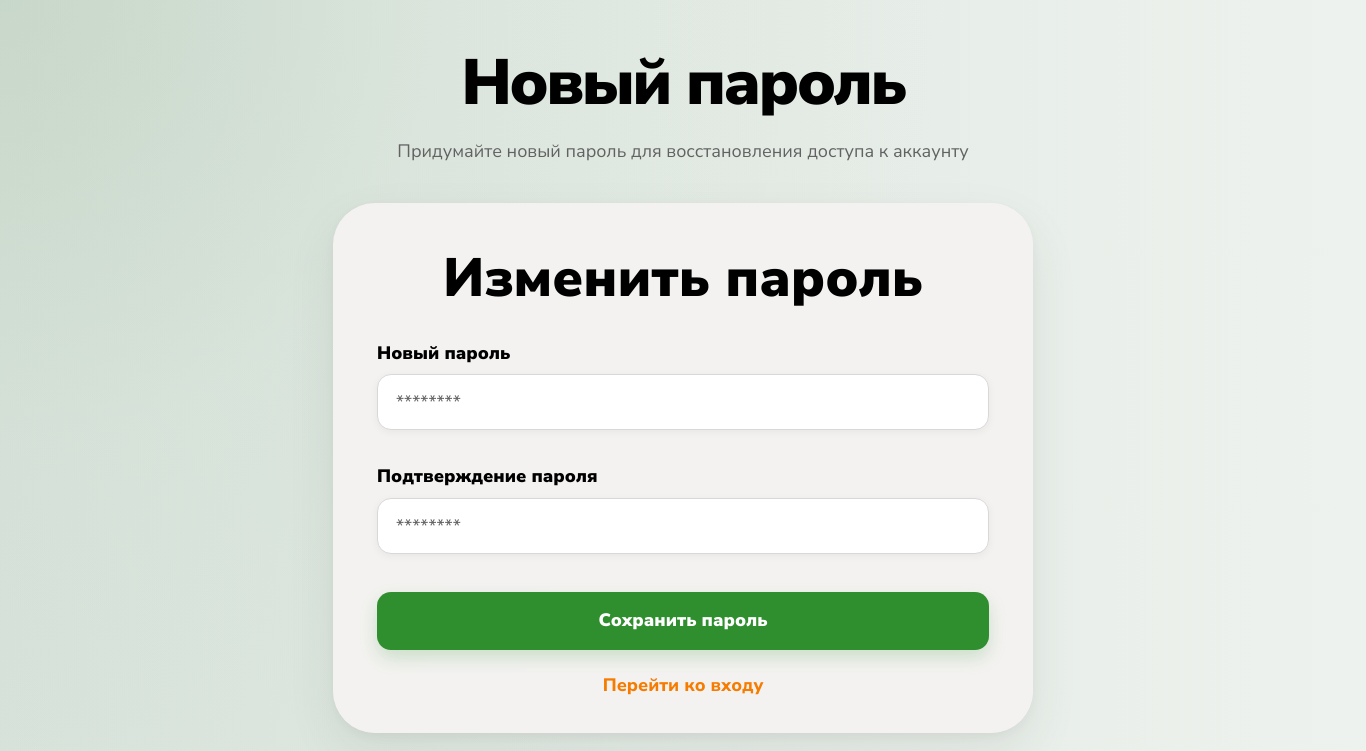
ResetPasswordPage › resets password and clears fields
Type "12345678" into the password field labelled "Новый пароль".
click(683, 402); type("12345678")  # box [377, 374, 989, 430]
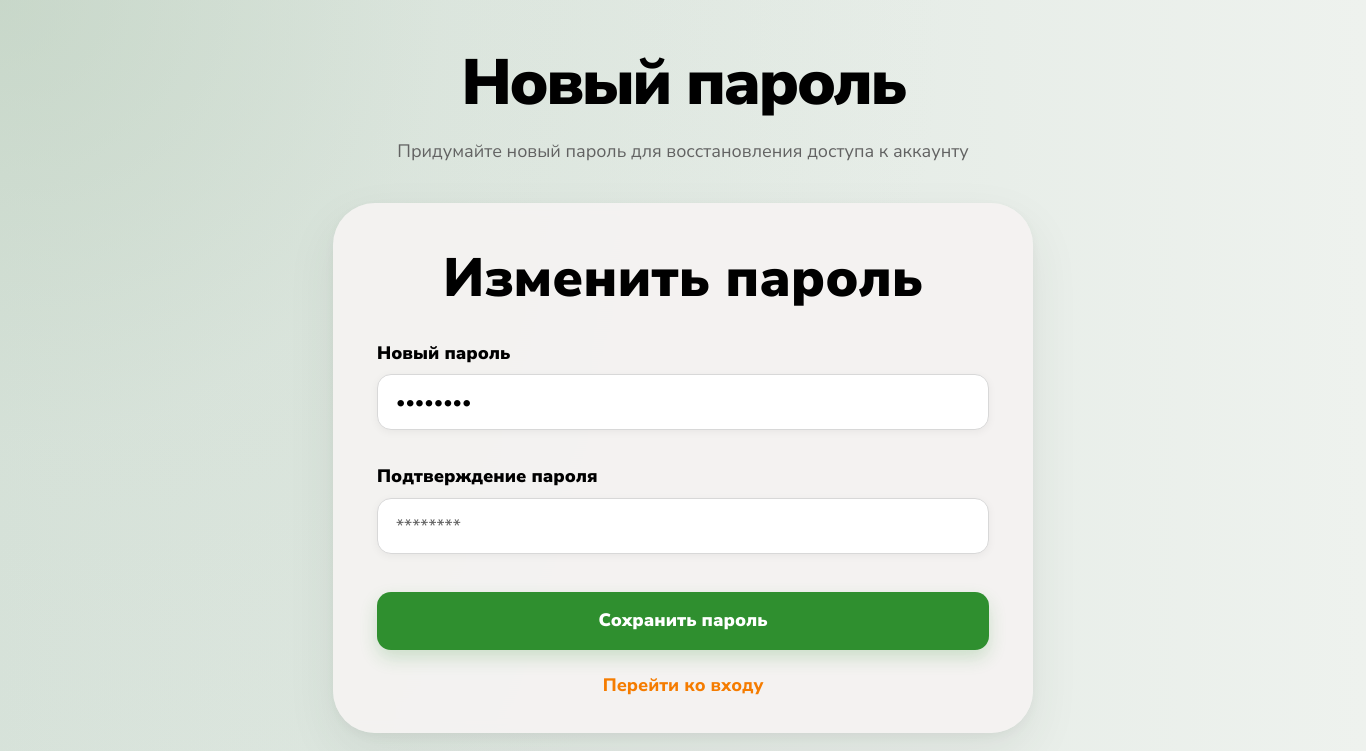
Type "12345678" into the password field labelled "Подтверждение пароля".
click(683, 526); type("12345678")  # box [377, 498, 989, 554]
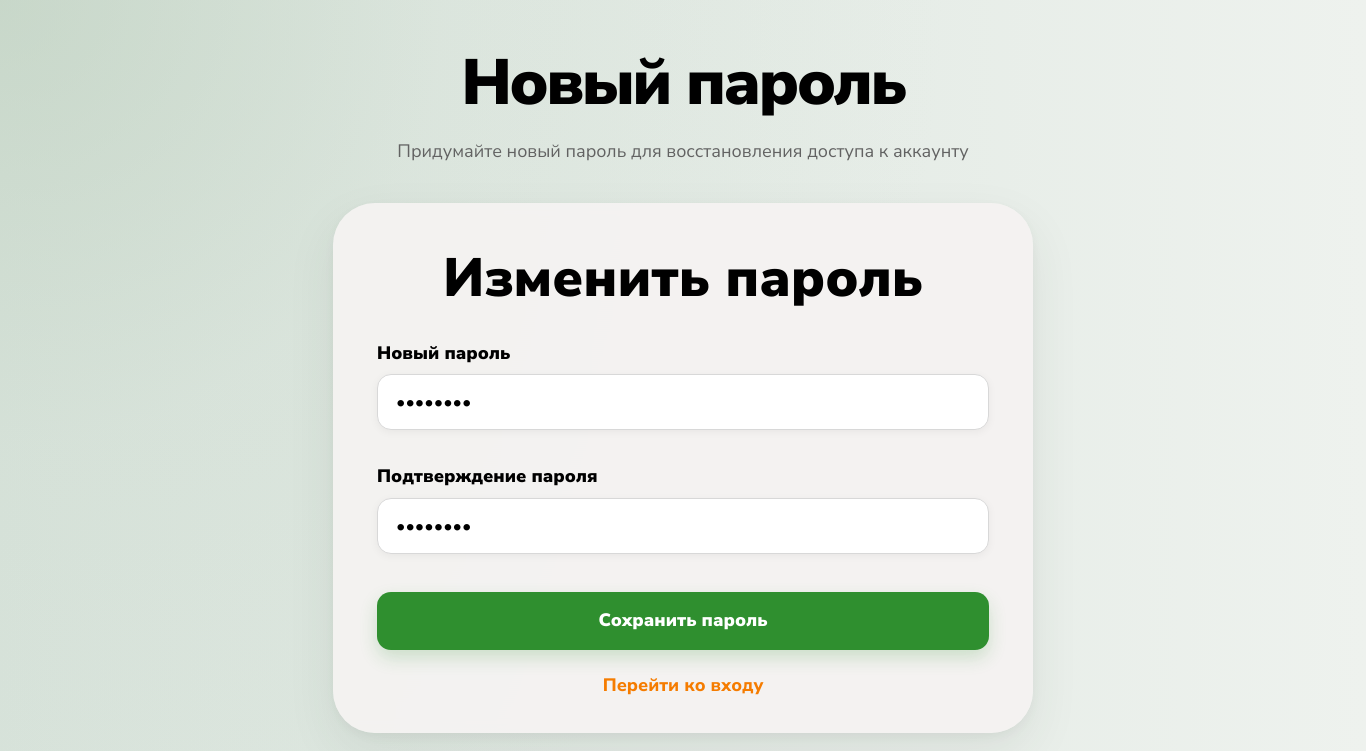
Click the button "Сохранить пароль".
click(683, 621)  # box [377, 592, 989, 650]
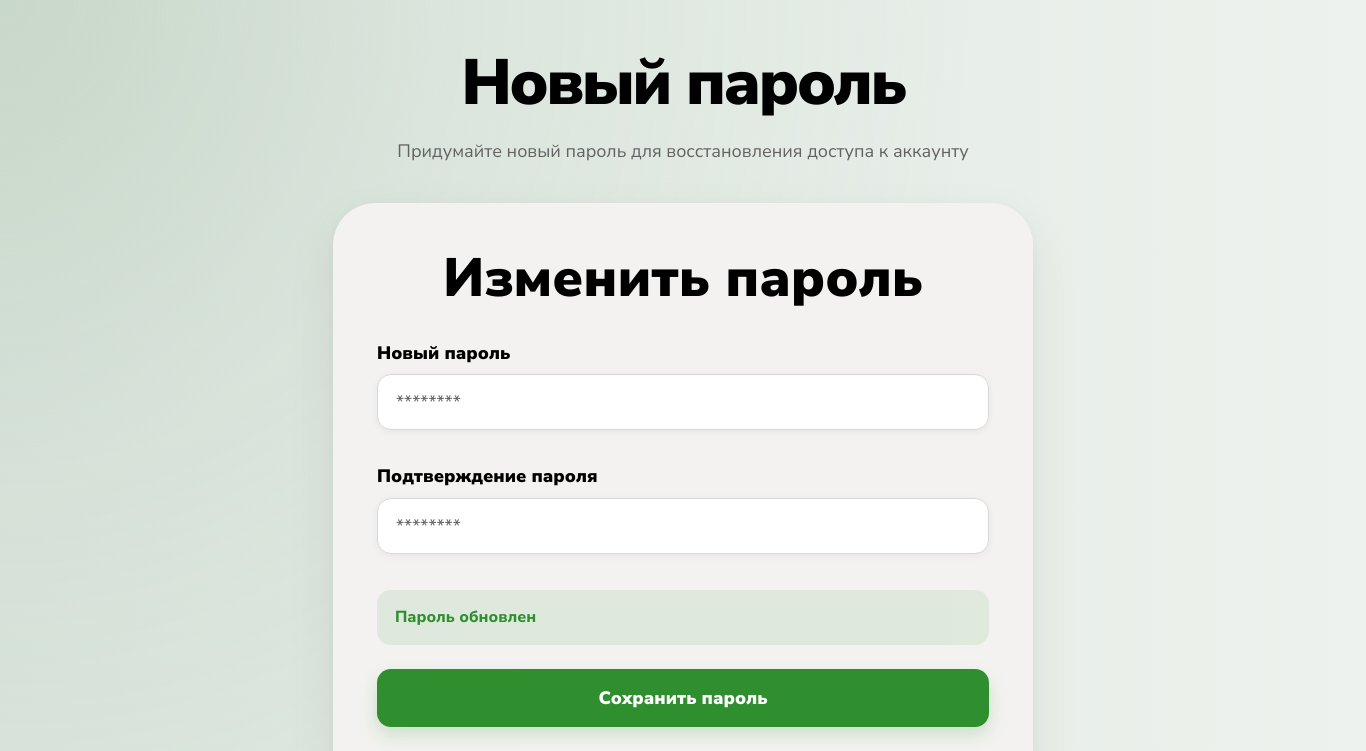
Result: the text "Пароль обновлен" is shown at [377, 590, 989, 645]
Result: the password field labelled "Новый пароль" is empty at [377, 374, 989, 430]
Result: the password field labelled "Подтверждение пароля" is empty at [377, 498, 989, 554]
